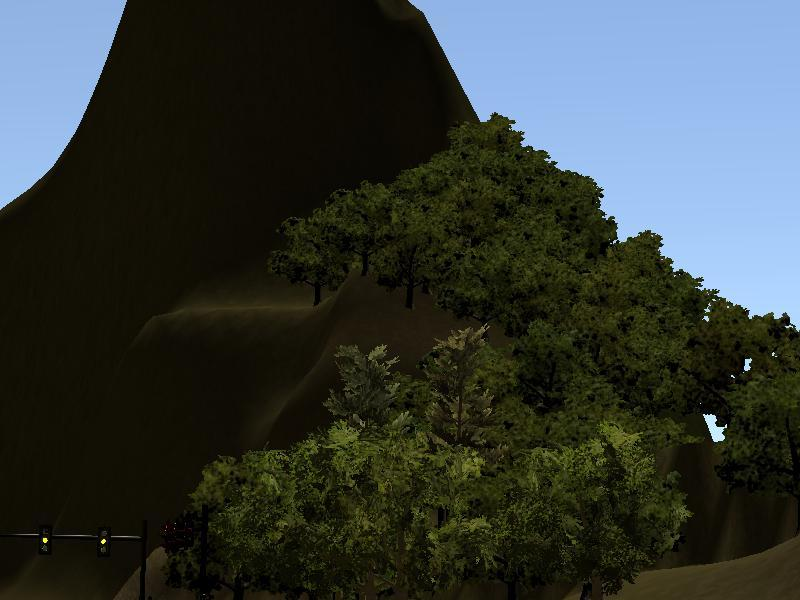Yellow: (39, 524, 52, 556), (98, 525, 111, 557)
